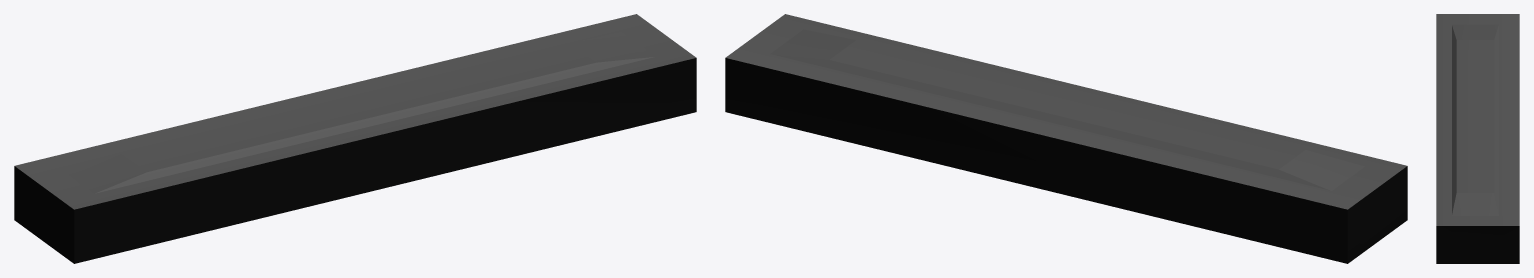
Rendered from StationFloorSide.fbx.
3 renders of one model, left to right at view 1: azimuth 30°, elevation 25°; view 2: azimuth 150°, elevation 25°; view 3: azimuth 270°, elevation 25°, orthographic. The views are drawn at different scales.
Visible parts, largest first — view 1: Cube.005; view 2: Cube.005; view 3: Cube.005.
Boxes of the visible parts, bbox=[...] form: Cube.005: bbox=[14, 14, 696, 263]; Cube.005: bbox=[725, 14, 1407, 263]; Cube.005: bbox=[1436, 14, 1519, 263].
Size of the model in its own units: 240 by 22 by 40.
